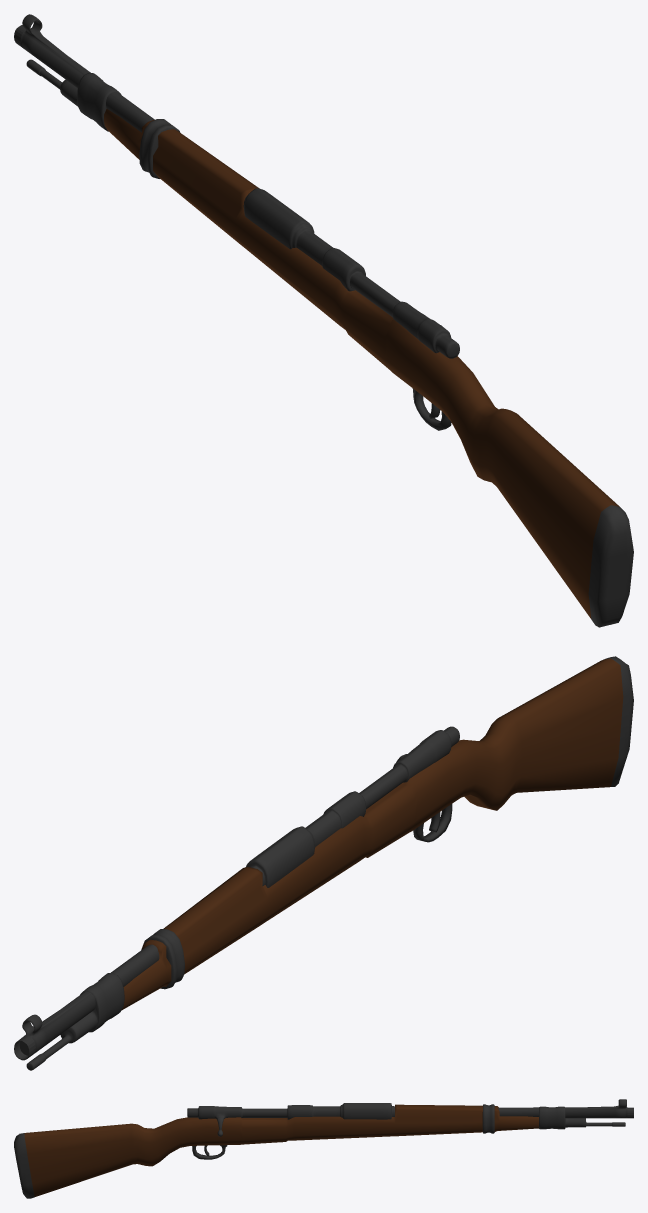
Rendered from kar98k_apply.fbx.
The picture shows the model from 3 angles, top to bottom: view 1: azimuth 30°, elevation 25°; view 2: azimuth 150°, elevation 25°; view 3: azimuth 270°, elevation 25°; orthographic projection. The views are drawn at different scales.
Parts seen in each view (by area): view 1: body, Cylinder.001; view 2: body, Cylinder.001; view 3: body, Cylinder.001.
Boxes of the visible parts, box(x1,y1,x2,y2) form: body: box(104, 108, 633, 627); Cylinder.001: box(14, 14, 459, 430); body: box(121, 656, 633, 1010); Cylinder.001: box(14, 726, 459, 1070); body: box(14, 1104, 538, 1198); Cylinder.001: box(187, 1099, 633, 1159).
Size of the model in its own units: 34.51 by 117 by 679.
